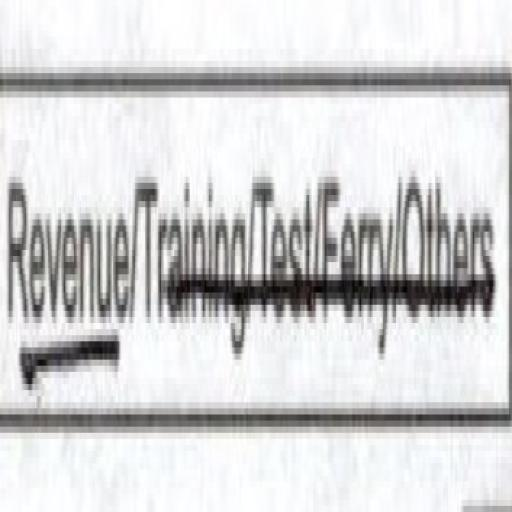check: (0, 54, 133, 440)
